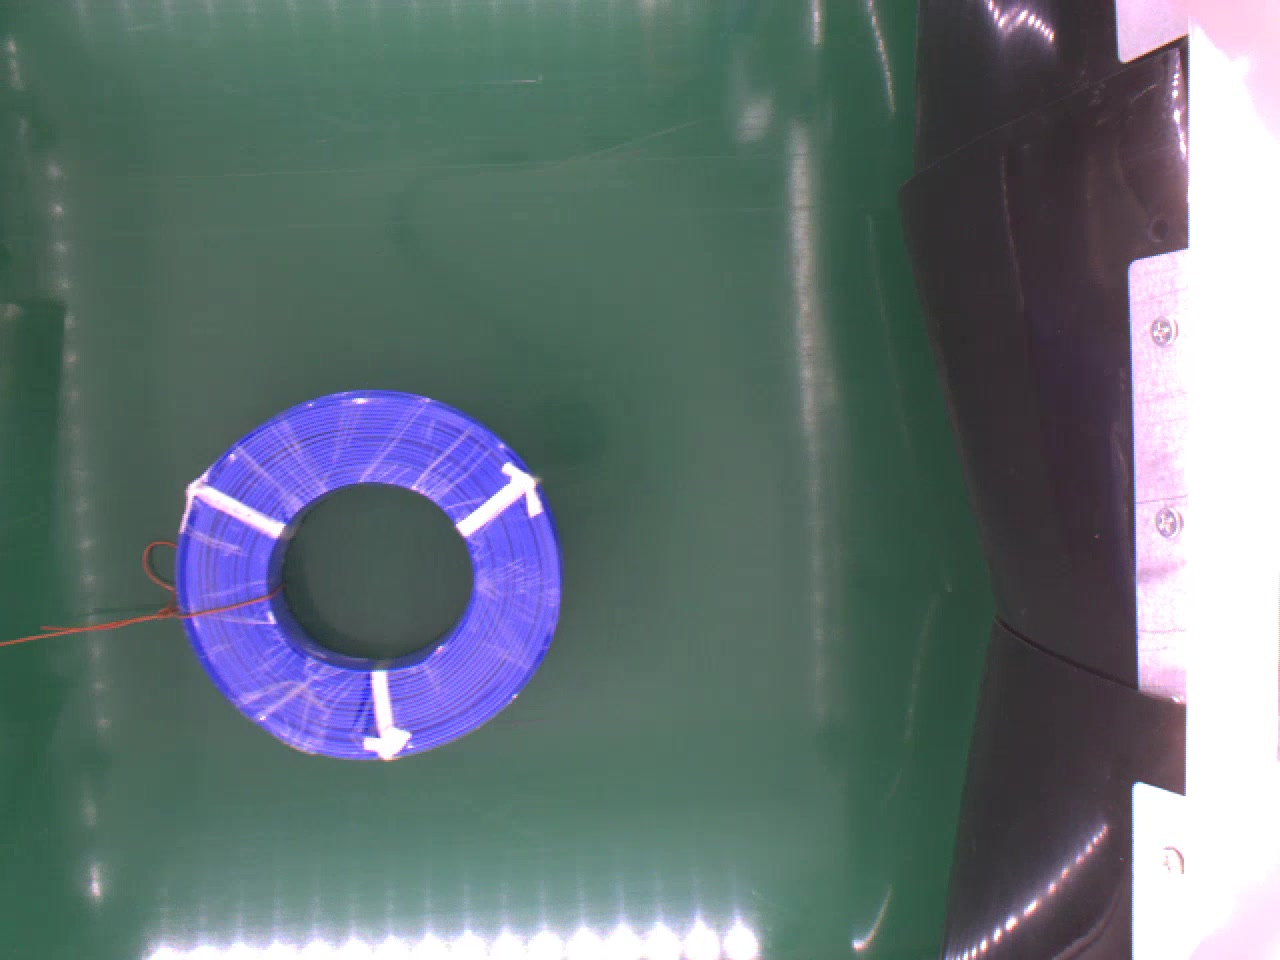blue: (175, 385, 568, 757)
